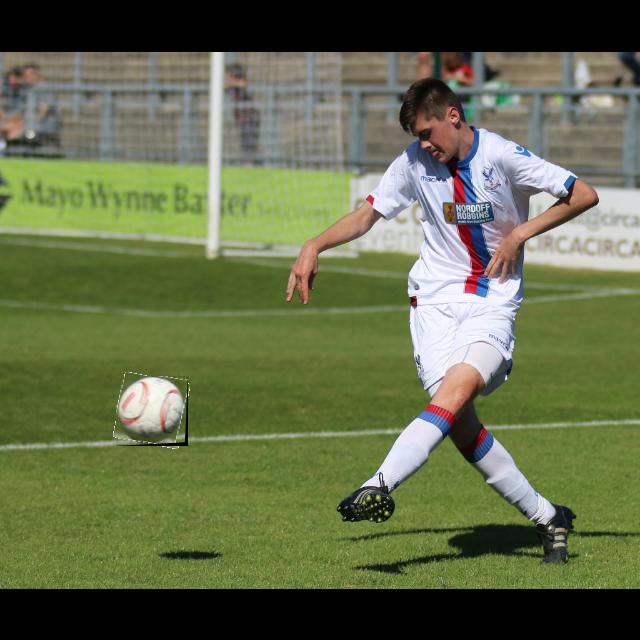Football: (116, 376, 188, 446)
